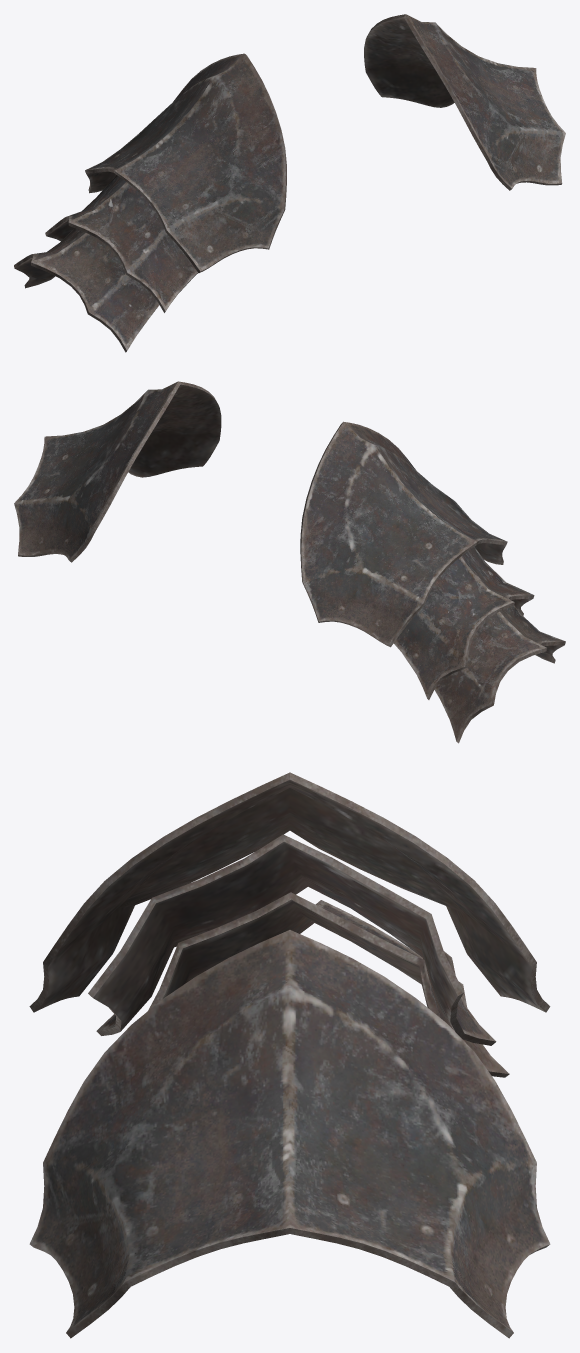
File: sk_dg_uruk_pauldron_heavy_d.fbx
3 renders of one model, top to bottom at view 1: azimuth 30°, elevation 25°; view 2: azimuth 150°, elevation 25°; view 3: azimuth 270°, elevation 25°, orthographic. The views are drawn at different scales.
Parts seen in each view (by area): view 1: sk_dg_uruk_pauldron_heavy_d; view 2: sk_dg_uruk_pauldron_heavy_d; view 3: sk_dg_uruk_pauldron_heavy_d.
Boxes of the visible parts, x1=… form: sk_dg_uruk_pauldron_heavy_d: x1=14, y1=14, x2=565, y2=352; sk_dg_uruk_pauldron_heavy_d: x1=14, y1=381, x2=565, y2=743; sk_dg_uruk_pauldron_heavy_d: x1=29, y1=772, x2=550, y2=1338.
Bounding box in the file's own units: 0.7602 × 0.3448 × 0.3414.
Materials: 1 (1 with a texture image).
